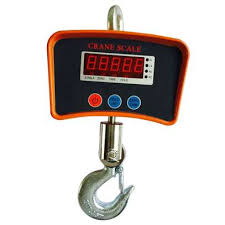Industrial Scale: (46, 4, 190, 221)
